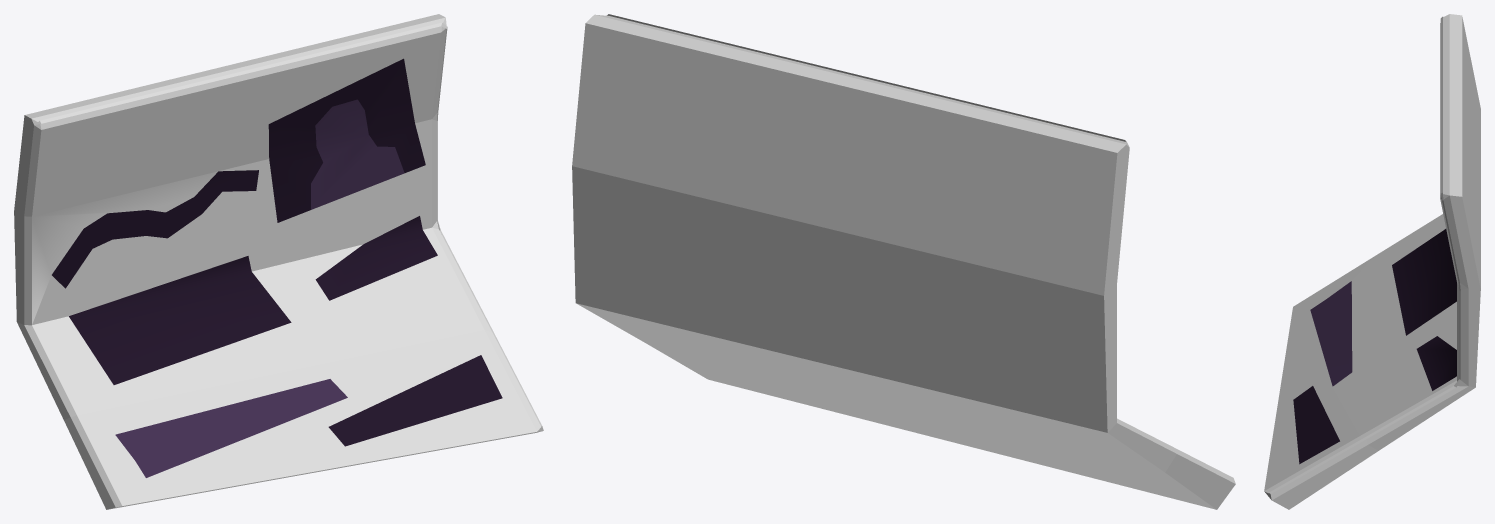
File: paper.fbx
The picture shows the model from 3 angles, left to right: view 1: azimuth 30°, elevation 25°; view 2: azimuth 150°, elevation 25°; view 3: azimuth 270°, elevation 25°; orthographic projection. The views are drawn at different scales.
Visible parts, largest first — view 1: Cube; view 2: Cube; view 3: Cube.
Boxes of the visible parts, x1,y1,x2,y2 form: Cube: (14, 14, 543, 509); Cube: (572, 14, 1235, 509); Cube: (1264, 14, 1480, 509).
Size of the model in its own units: 201 by 161 by 101.
